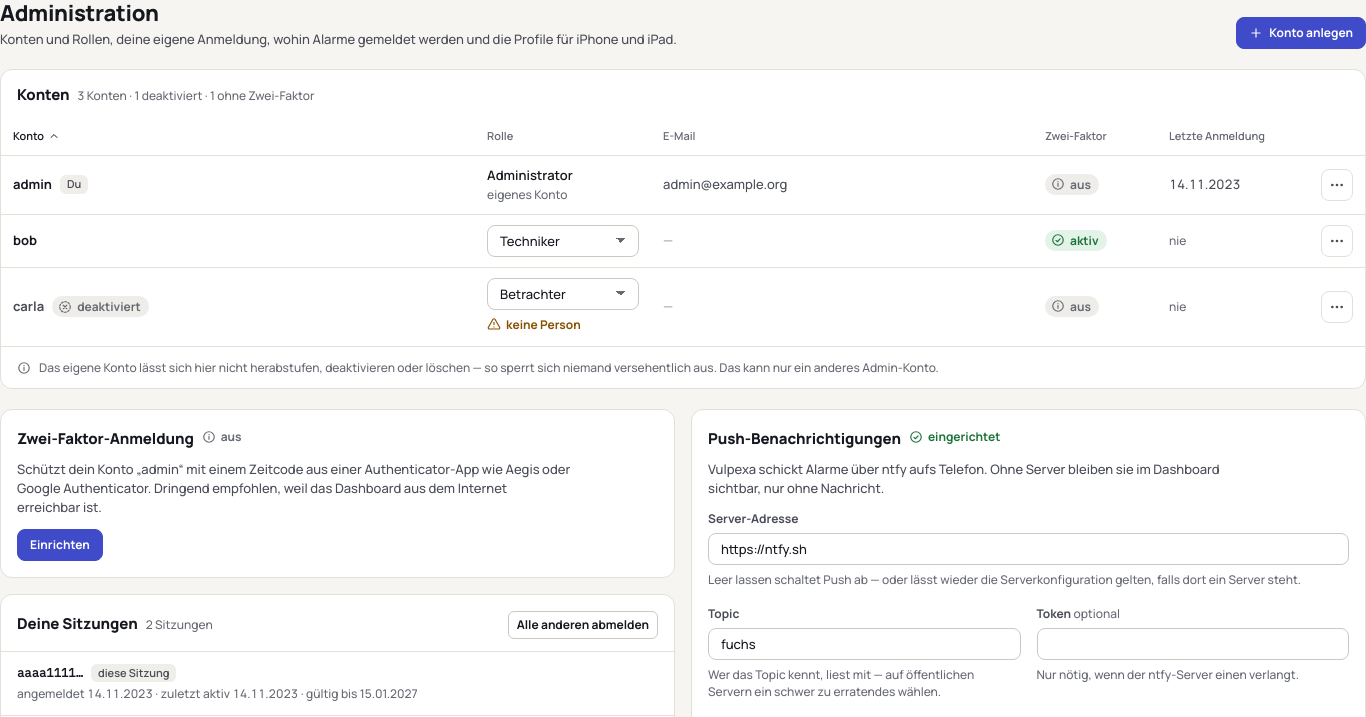
Test: AdminPage › keeps keyboard focus in the list when the deleted row goes away
The width and height of the screenshot is (1366, 717).
Click the button named "Aktionen für bob": [1337, 241] box [1321,225,1353,257]
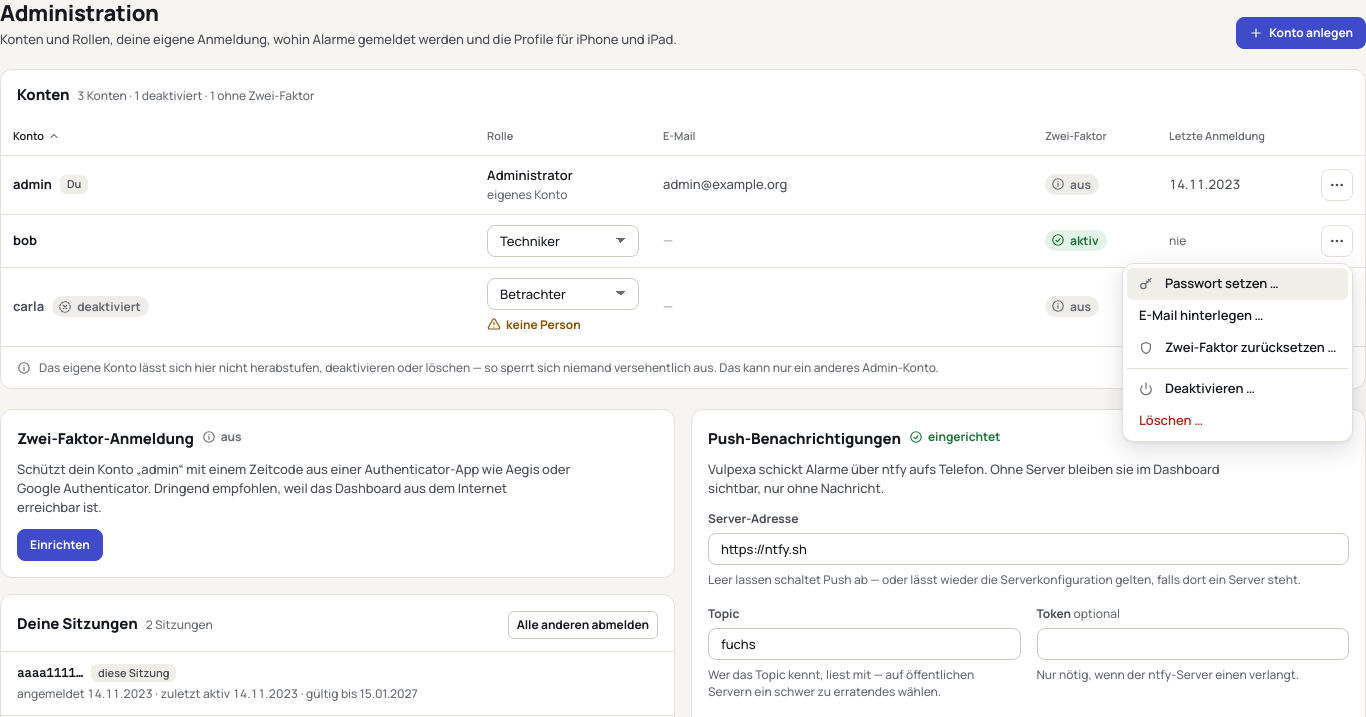
Click the menu item "Löschen …": [1238, 421] box [1127,405,1348,437]
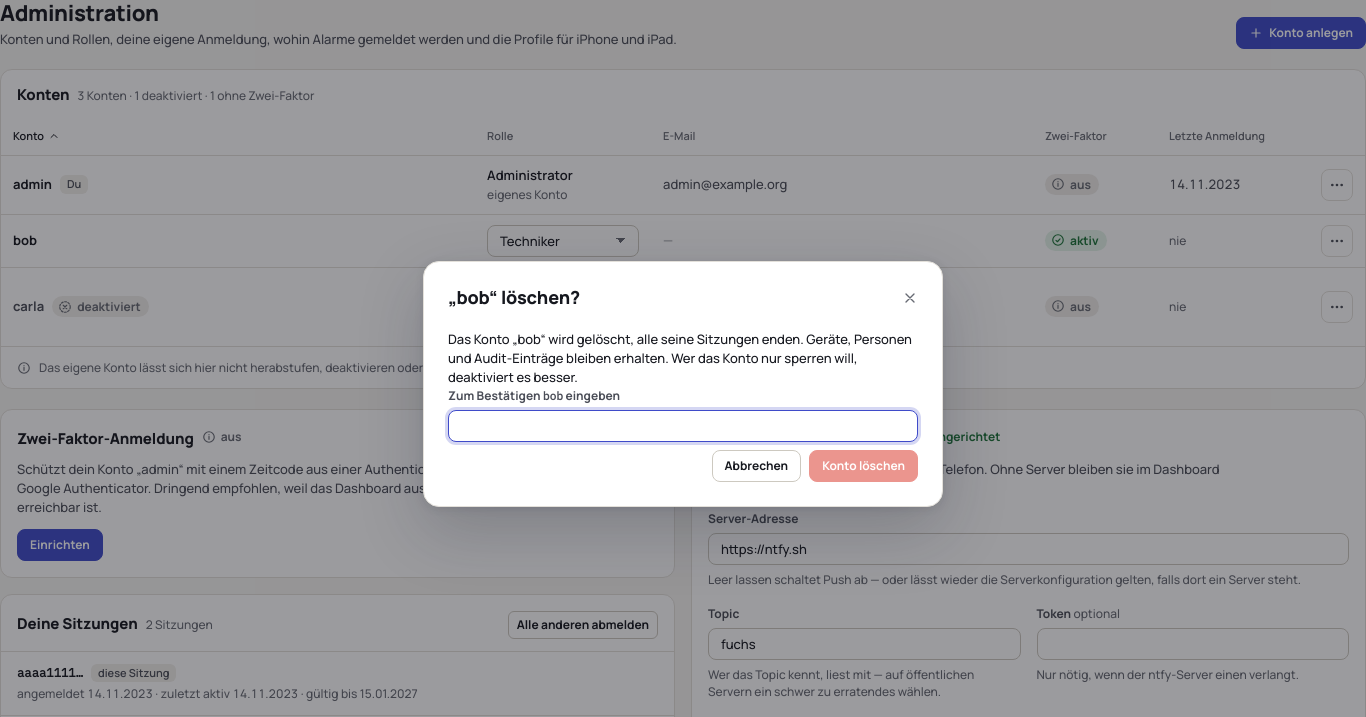
In the field: [683, 426] box [448,410,918,442], type "bob"
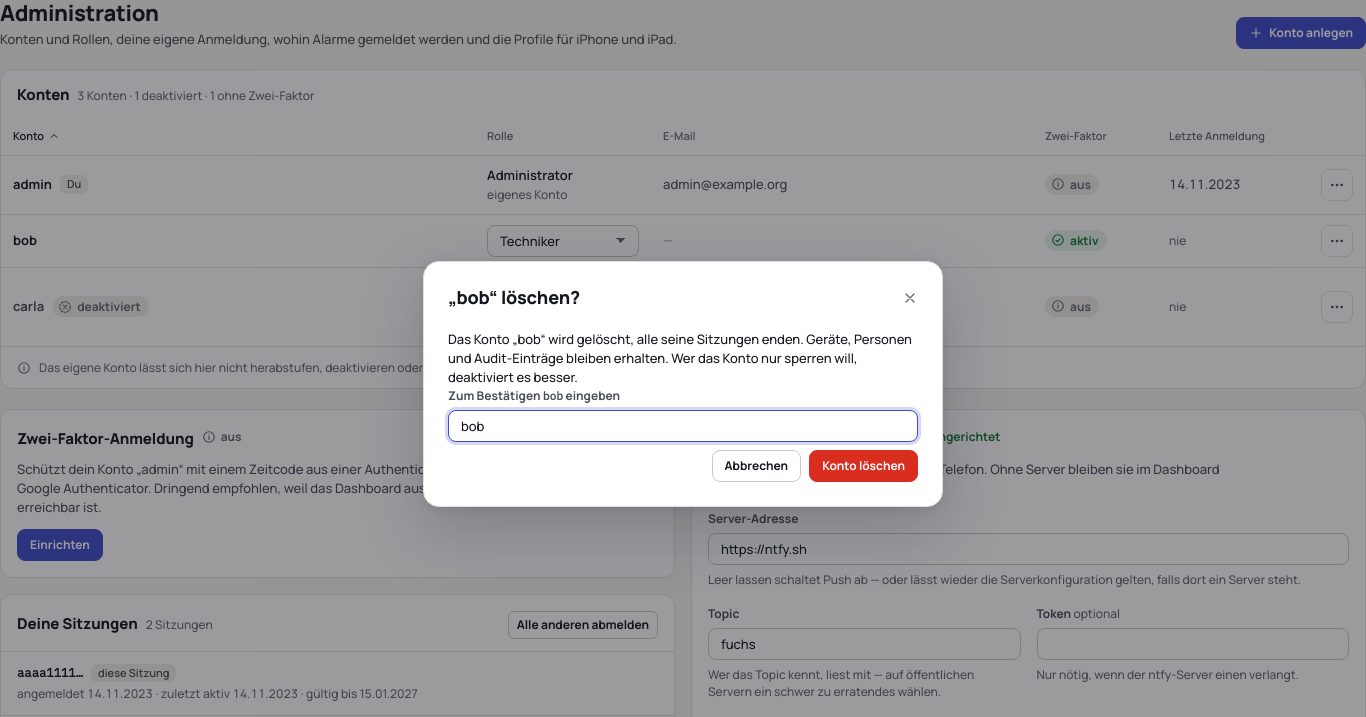
Click the button "Konto löschen": [864, 466] box [809,450,918,482]
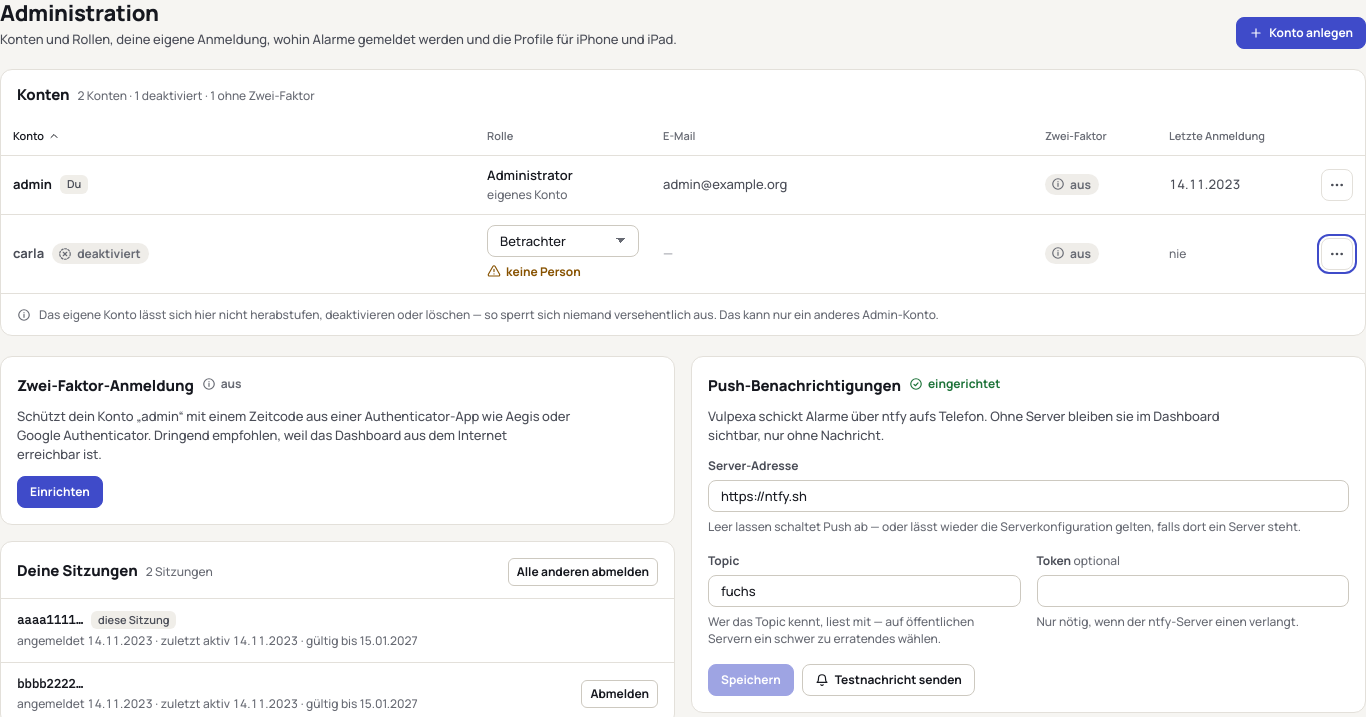
Expected: the text "Aktionen für bob" is gone
